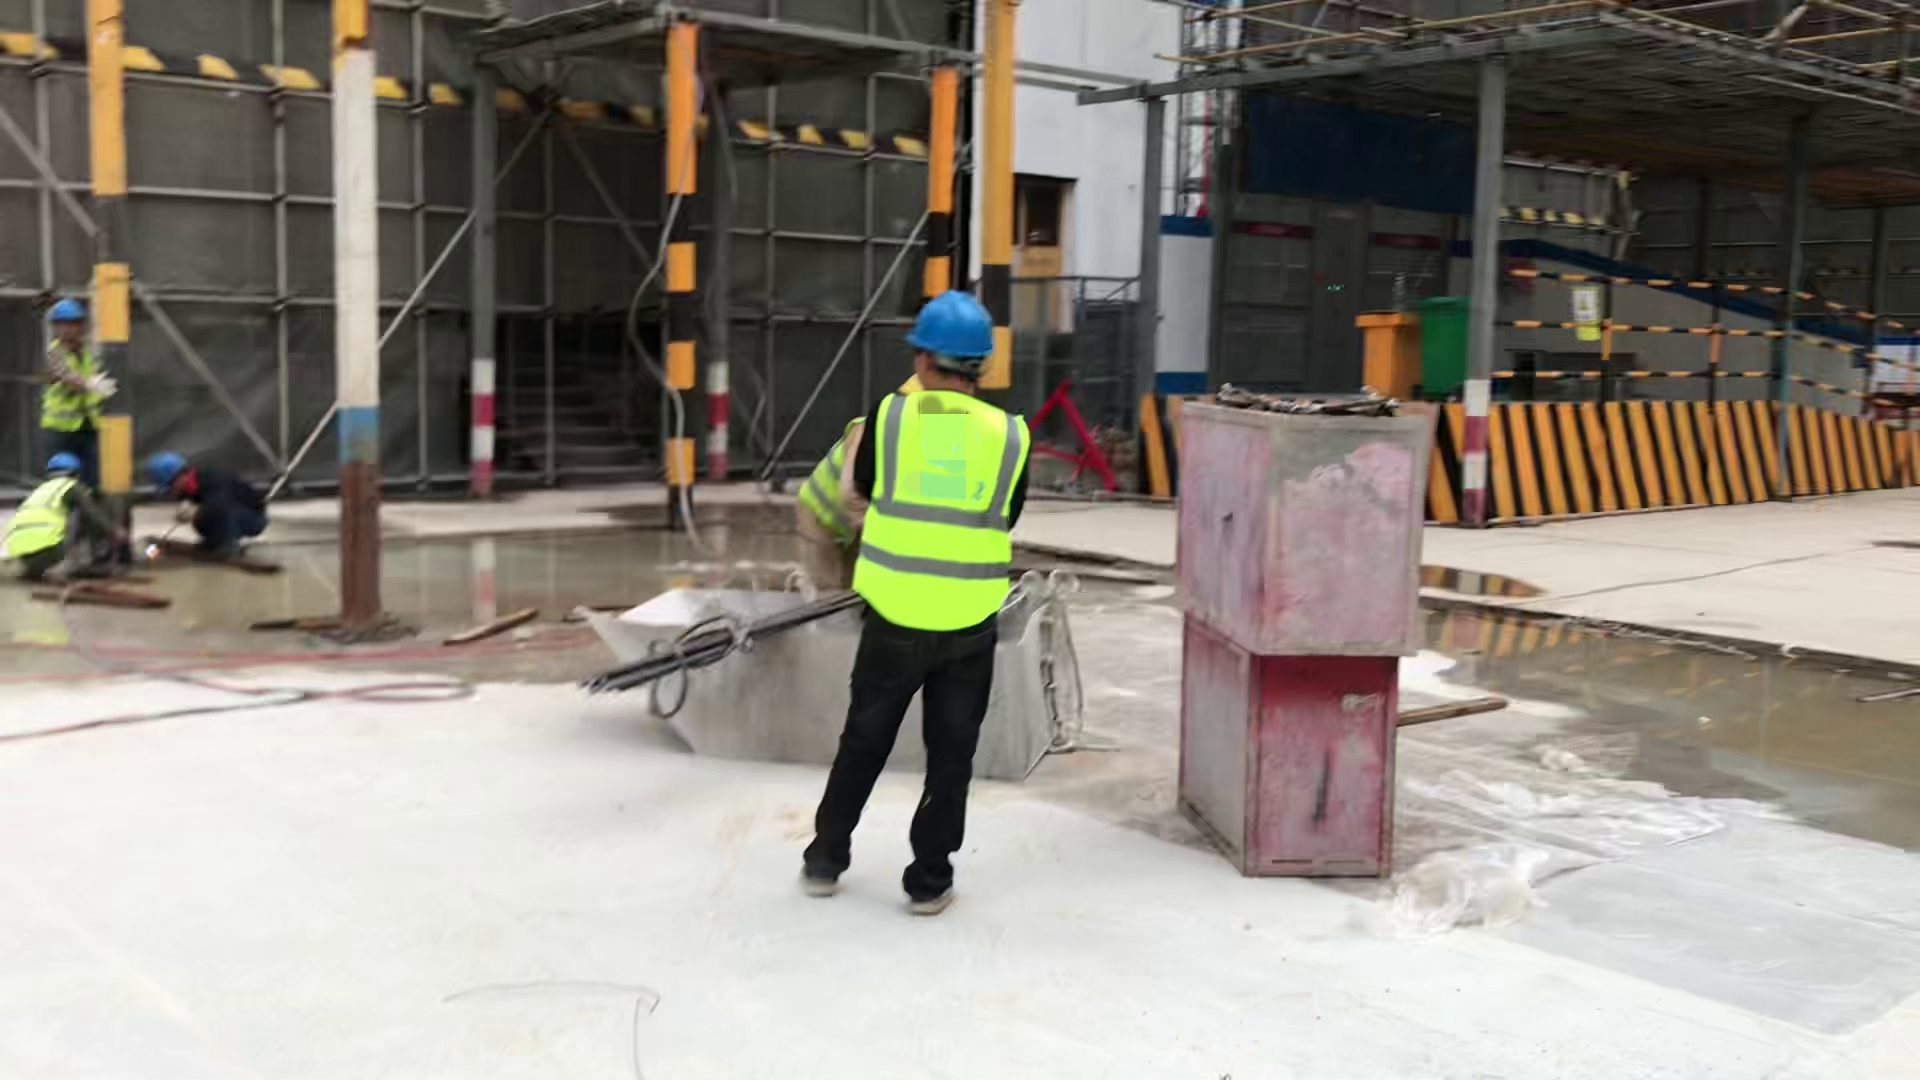helmet: (902, 285, 1006, 373), (38, 434, 98, 484), (140, 445, 189, 496), (39, 295, 98, 337), (879, 360, 933, 395)
person: (788, 253, 1065, 950), (785, 338, 923, 627), (132, 426, 298, 612), (6, 443, 120, 600), (31, 280, 123, 465)
vest: (845, 391, 1032, 657), (782, 408, 872, 551), (29, 338, 120, 435), (6, 481, 90, 572)
